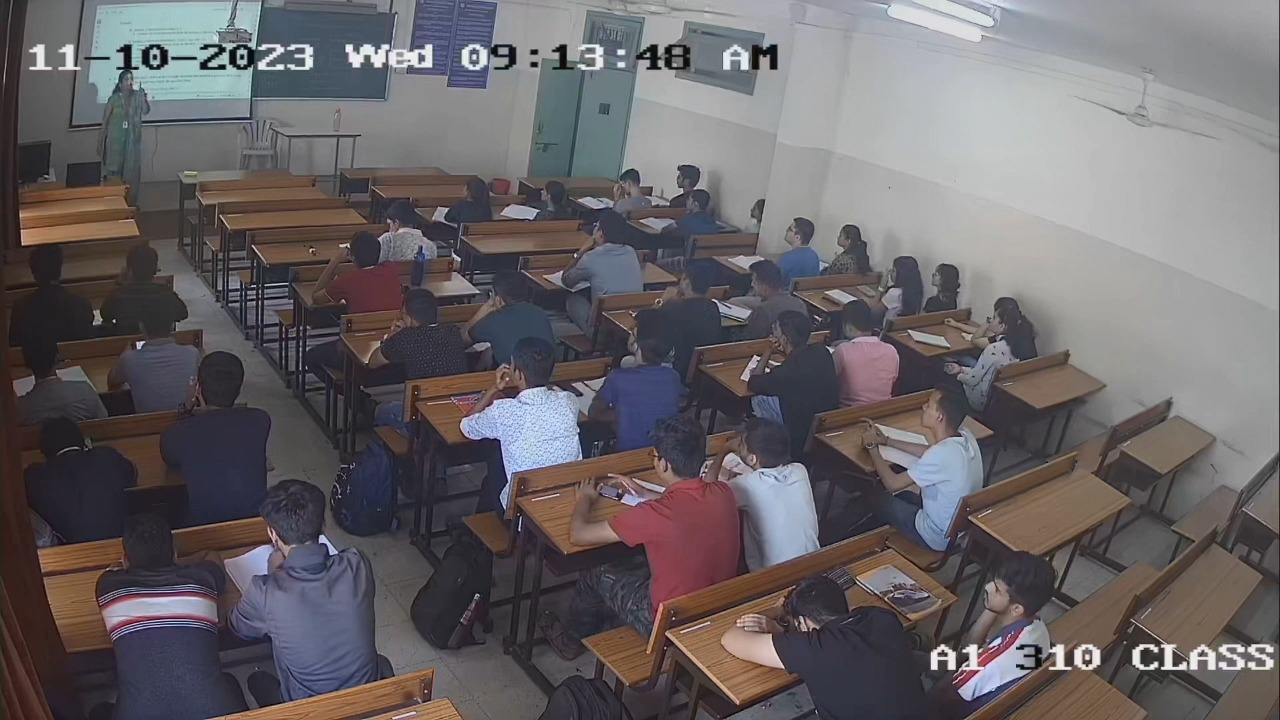cell-phones: (594, 480, 625, 502), (557, 379, 584, 397)
person: (615, 414, 737, 582), (582, 310, 680, 415)
